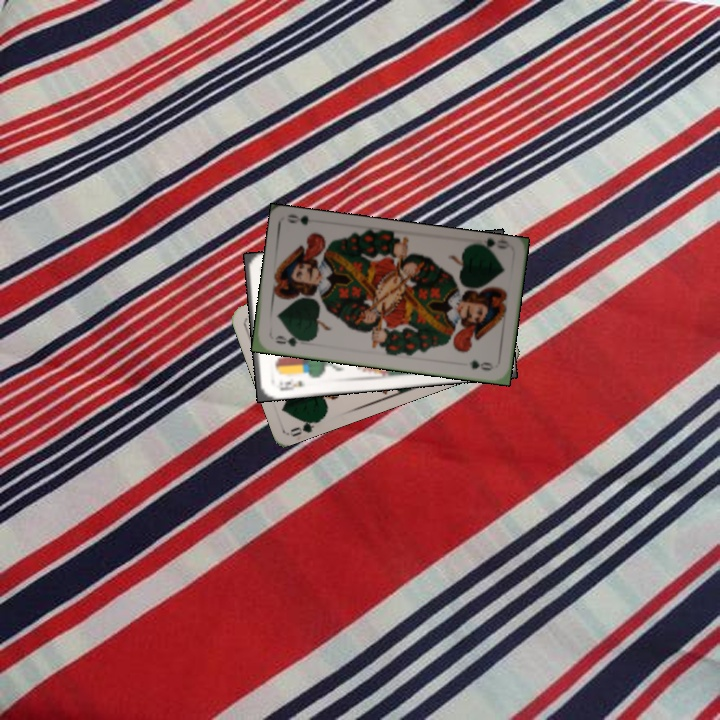EK: (276, 376, 307, 394)
GO: (287, 412, 325, 439), (471, 236, 511, 257), (271, 331, 309, 349)
